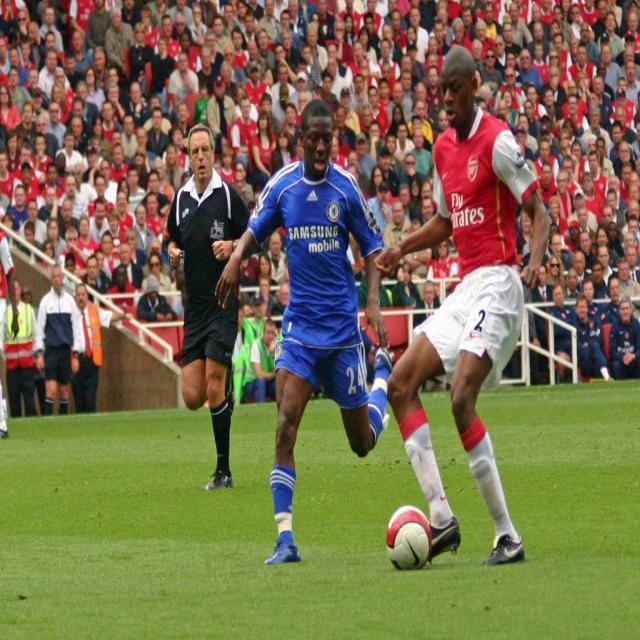football: (376, 497, 459, 577)
